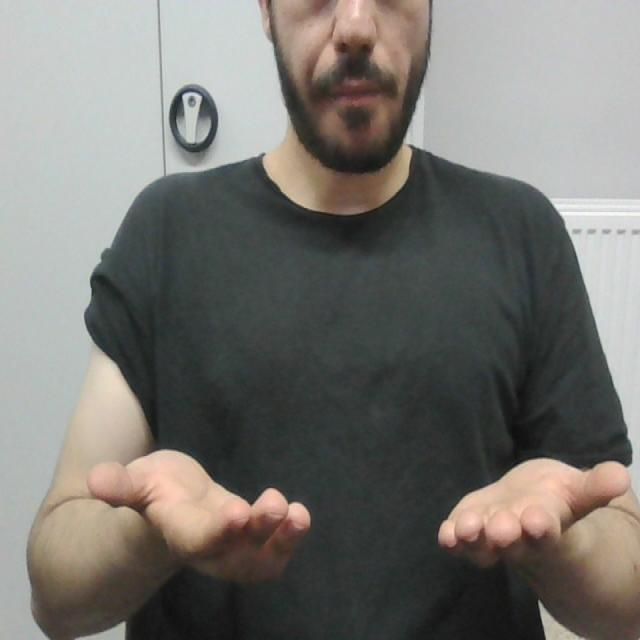Evet: (85, 443, 640, 594)
